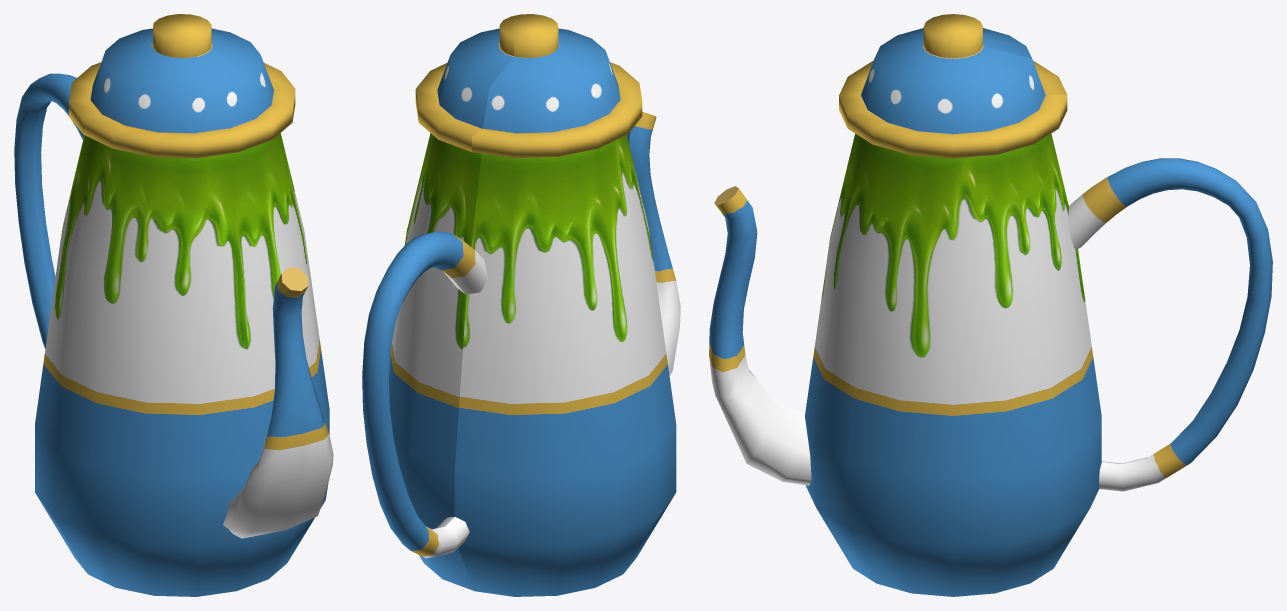
File: teapot2.glb
3 views of the same model, side by side, from view 1: azimuth 30°, elevation 25°; view 2: azimuth 150°, elevation 25°; view 3: azimuth 270°, elevation 25° (orthographic).
Visible parts, largest first — view 1: teapot; view 2: teapot; view 3: teapot.
Boxes of the visible parts, left/top/right/bottom form: teapot: left=14, top=14, right=333, bottom=596; teapot: left=362, top=14, right=680, bottom=596; teapot: left=709, top=14, right=1272, bottom=596.
Bounding box in the file's own units: 2 × 3.9 × 3.8.
1 material, 1 textured.
